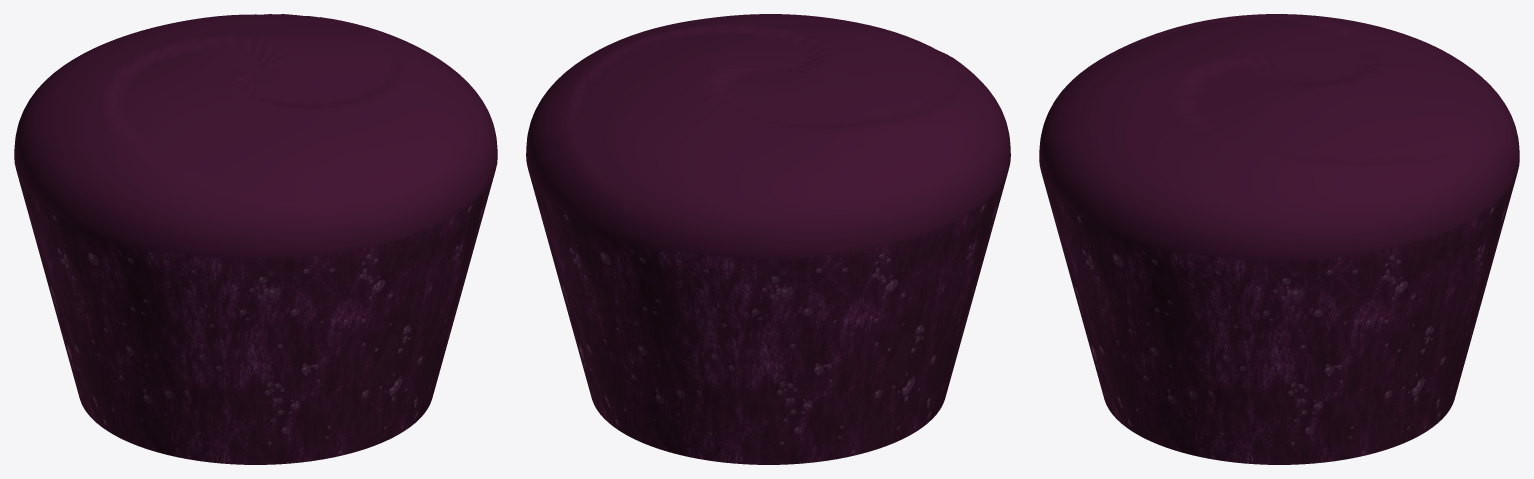
File: base-acai-isopor-p.glb
The picture shows the model from 3 angles, left to right: view 1: azimuth 30°, elevation 25°; view 2: azimuth 150°, elevation 25°; view 3: azimuth 270°, elevation 25°; orthographic projection.
Parts seen in each view (by area): view 1: base-acai-isopor-p; view 2: base-acai-isopor-p; view 3: base-acai-isopor-p.
Part boxes in pixels (x1,y1,x2,y2): base-acai-isopor-p: (14,14,497,464); base-acai-isopor-p: (526,14,1010,464); base-acai-isopor-p: (1039,14,1519,464).
Size of the model in its own units: 0.1005 by 0.0738 by 0.1005.
2 materials, 1 textured.
